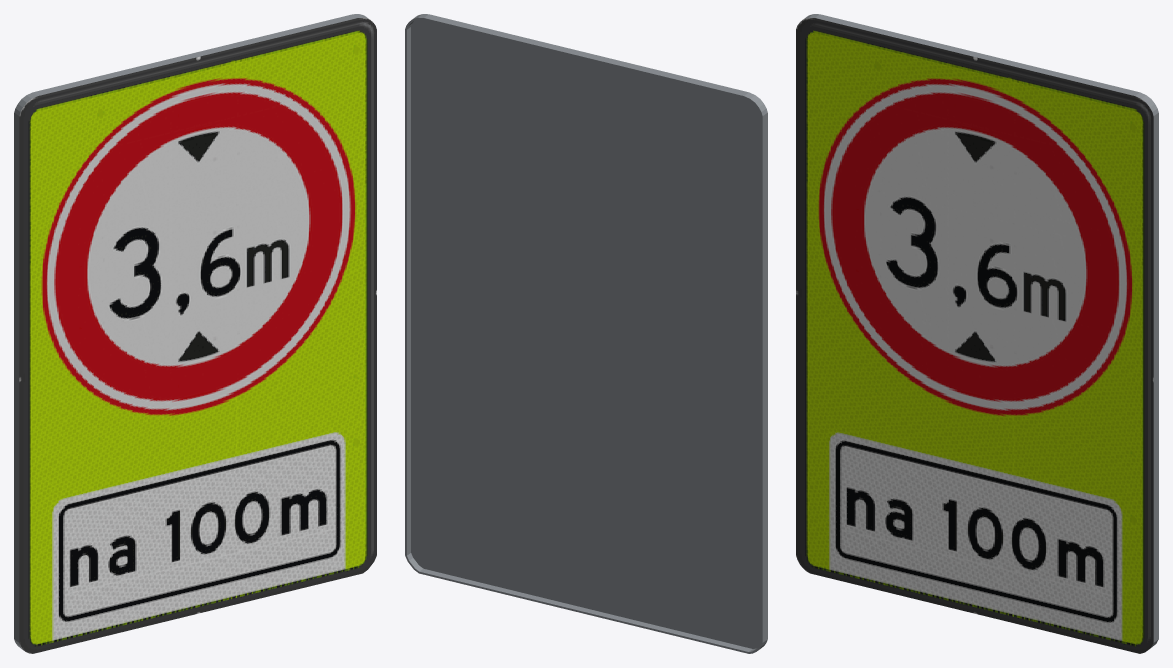
3 renders of one model, left to right at view 1: azimuth 30°, elevation 25°; view 2: azimuth 150°, elevation 25°; view 3: azimuth 330°, elevation 25°, orthographic.
Visible parts, largest first — view 1: cat_b62c1e8490f6ca49; view 2: cat_b62c1e8490f6ca49; view 3: cat_b62c1e8490f6ca49.
Boxes of the visible parts, x1,y1,x2,y2 form: cat_b62c1e8490f6ca49: (14, 14, 376, 653); cat_b62c1e8490f6ca49: (405, 14, 767, 653); cat_b62c1e8490f6ca49: (796, 14, 1158, 653).
Bounding box in the file's own units: 0.6 × 0.015 × 0.8927.
Materials: 2 (1 with a texture image).
